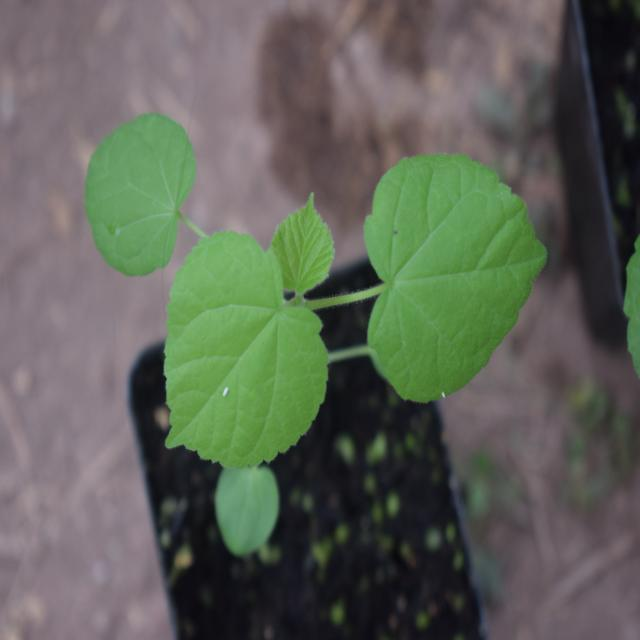abutilon theophrasti: (71, 111, 538, 491)
